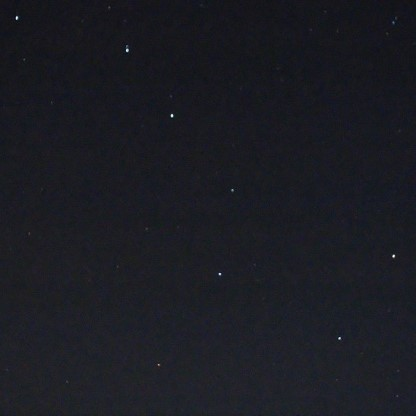Ursa Major: (324, 321, 352, 350), (375, 238, 402, 267), (108, 36, 136, 62), (221, 174, 246, 203), (206, 262, 235, 285), (159, 103, 184, 129), (5, 5, 29, 27)
